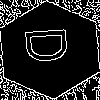D: (25, 25, 78, 65)
